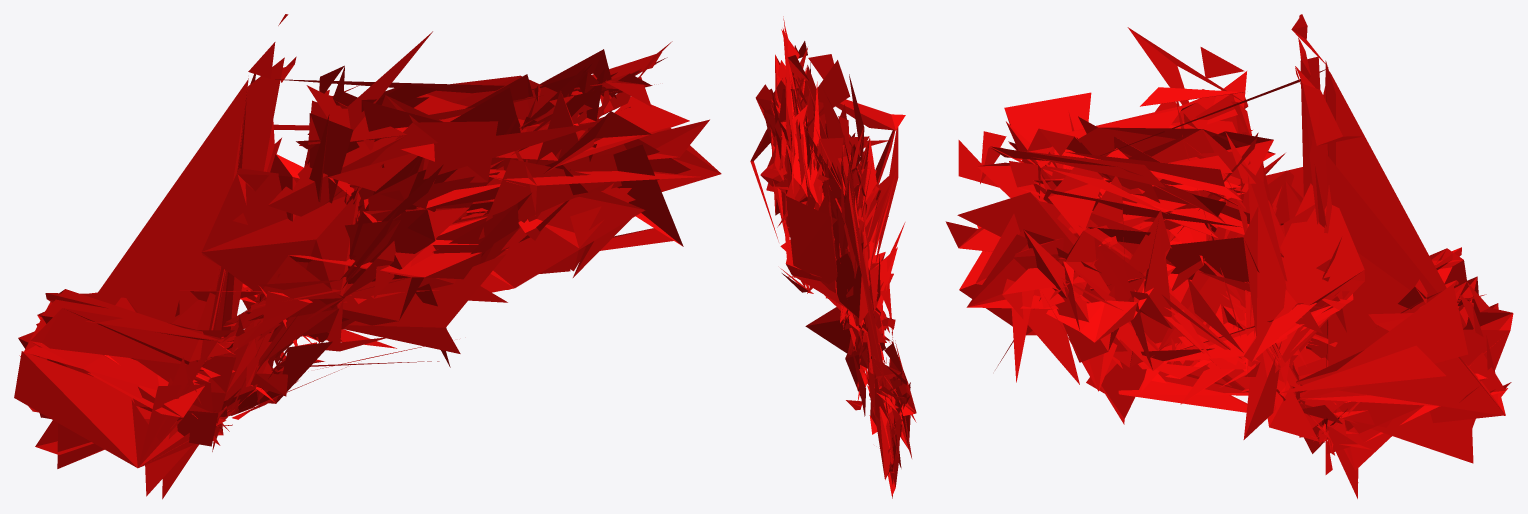
The picture shows the model from 3 angles, left to right: view 1: azimuth 30°, elevation 25°; view 2: azimuth 150°, elevation 25°; view 3: azimuth 270°, elevation 25°; orthographic projection. The views are drawn at different scales.
Parts seen in each view (by area): view 1: Renderer Node; view 2: Renderer Node; view 3: Renderer Node.
Part boxes in pixels (left/top/right/bottom): Renderer Node: left=14, top=14, right=721, bottom=499; Renderer Node: left=750, top=16, right=916, bottom=498; Renderer Node: left=945, top=14, right=1513, bottom=498.
Bounding box in the file's own units: 0.6991 × 0.7067 × 0.6428.
Materials: 1 (1 with a texture image).
